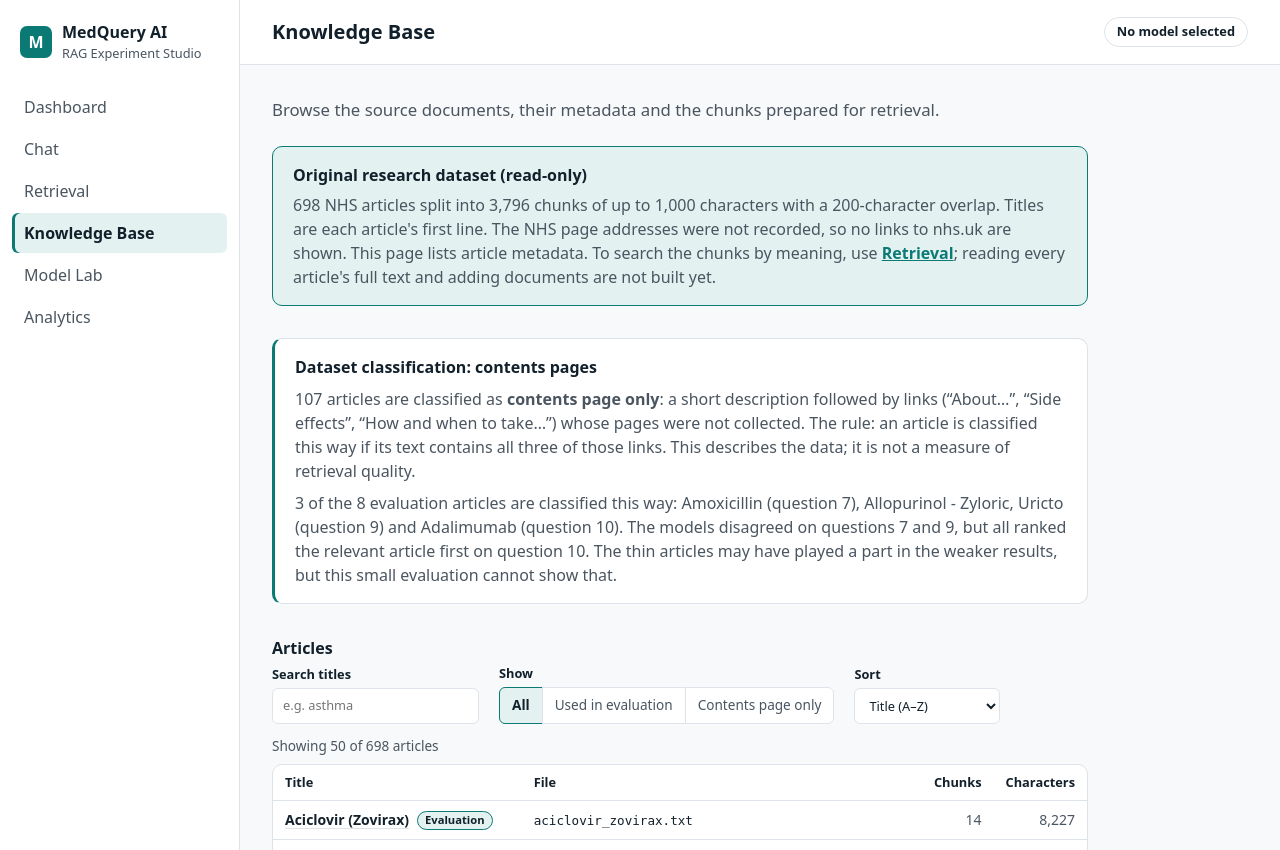
Test case: Knowledge Base catalogue › searches titles and filters by evaluation use and classification
Type "asthma" into the search field labelled "Search titles".
click(376, 706); type("asthma")  # box [272, 688, 479, 724]
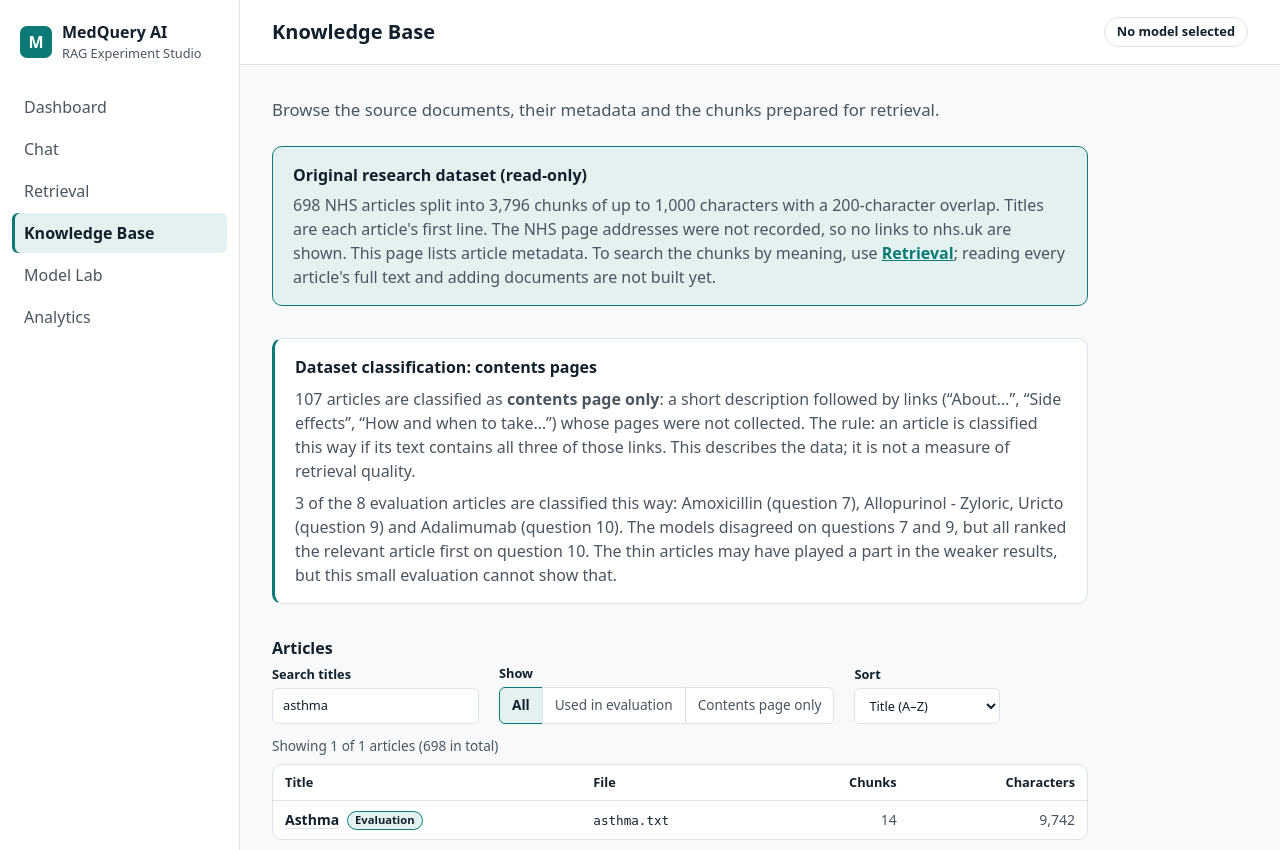
Clear the search field labelled "Search titles" at coordinates (376, 706), box [272, 688, 479, 724]
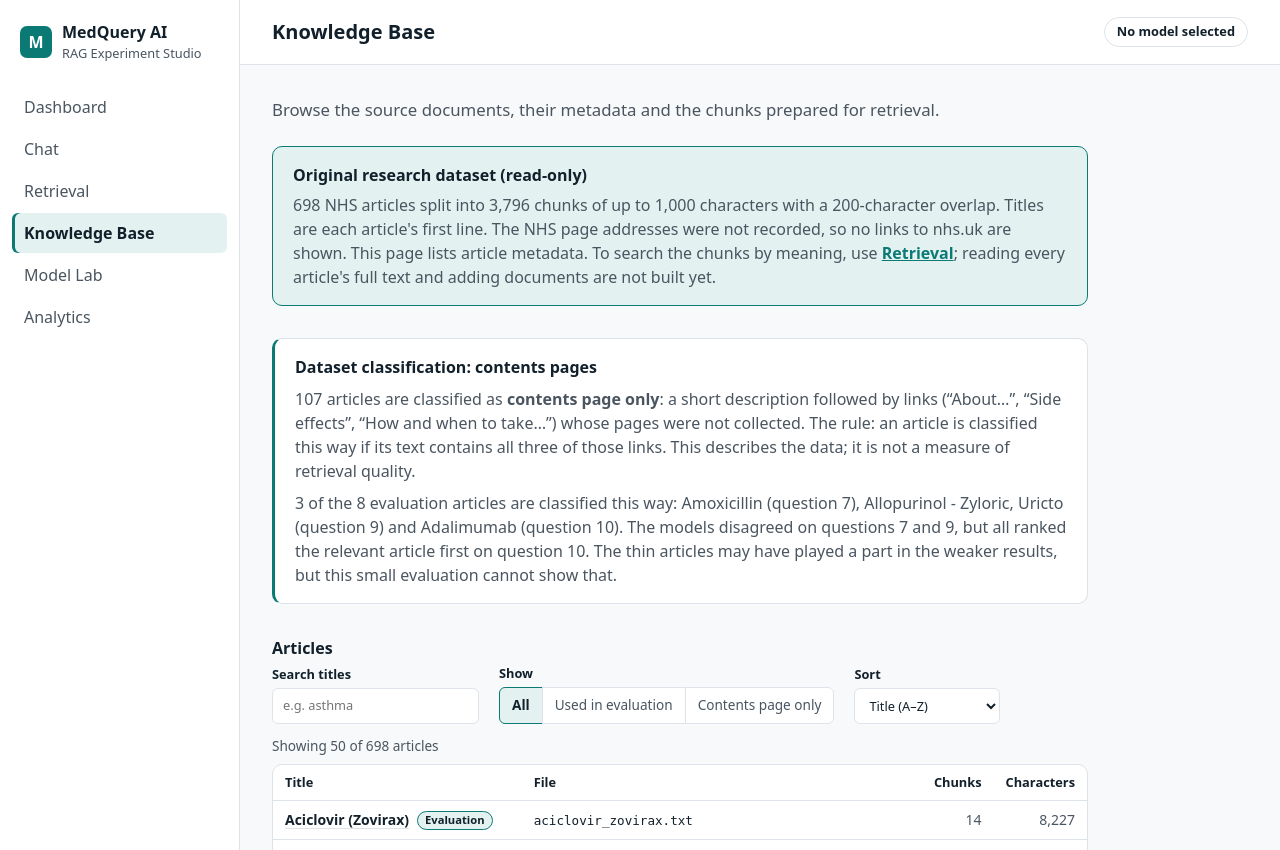
Click the radio button labelled "Used in evaluation".
click(614, 706)  # box [543, 687, 686, 724]
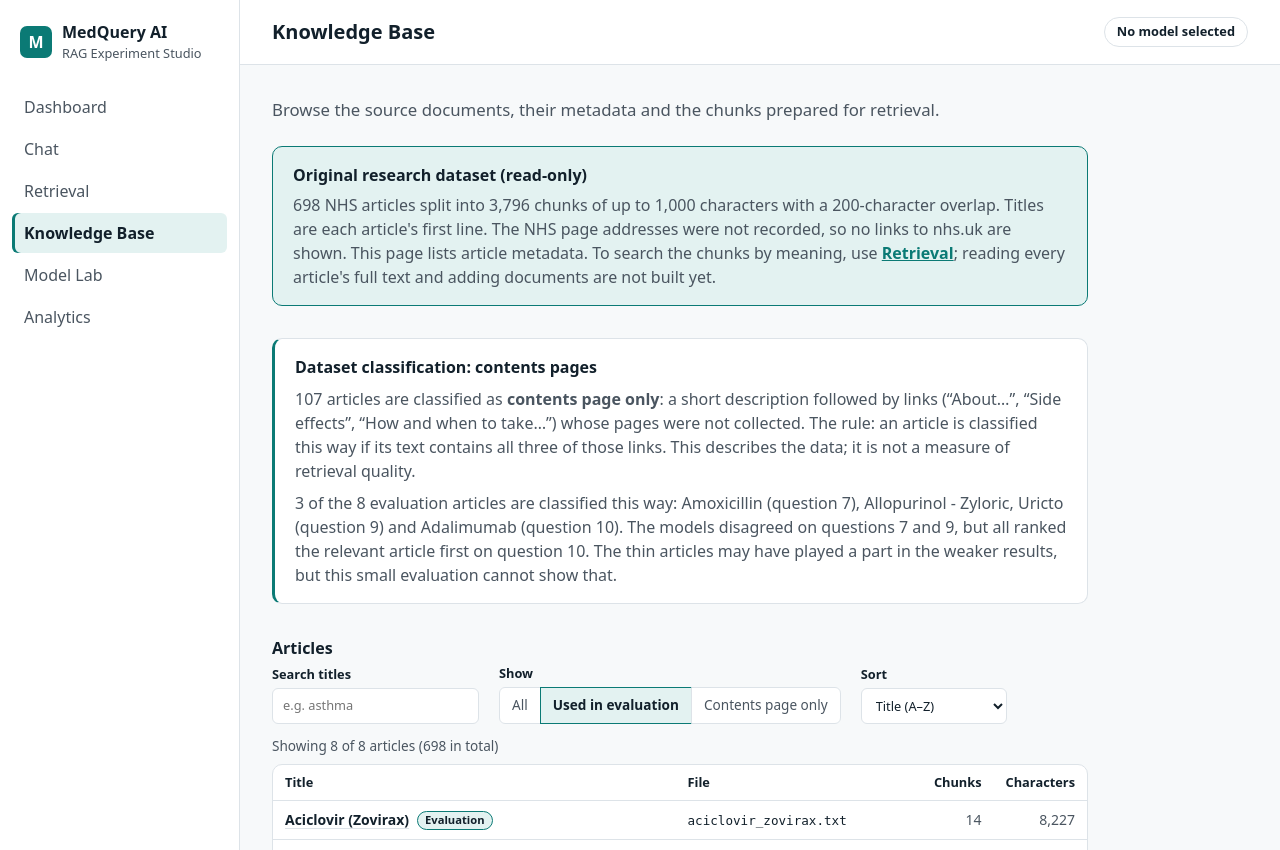
Result: the text "Showing 8 of 8 articles (698 in total)" is shown at [272, 736, 498, 755]
Click the radio button labelled "Contents page only".
click(766, 706)  # box [692, 687, 841, 724]
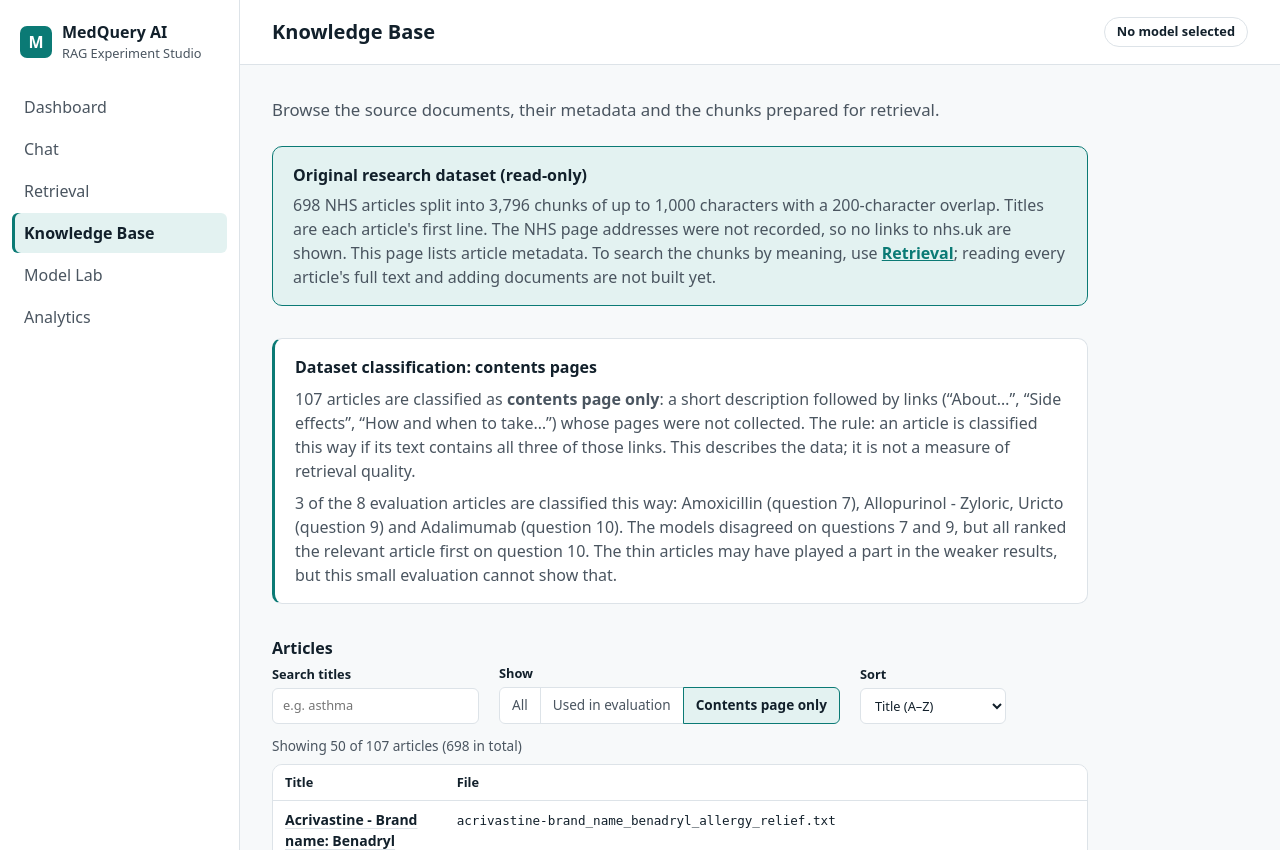
Result: the text "Showing 50 of 107 articles (698 in total)" is shown at [272, 736, 522, 755]
